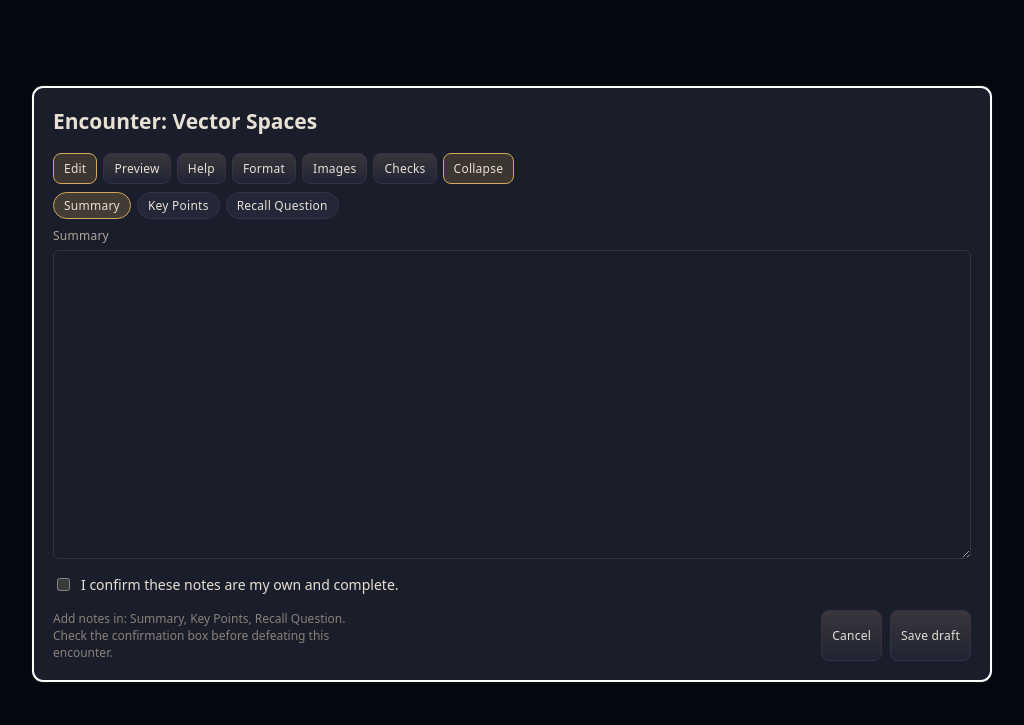
NoteEditorModal › shows a neutral checklist on first open before edits
Expected: the text "Keep headings: Summary, Key Points, Recall Question" is not shown
Click the button "Checks": (405,168) [373,152,436,184]
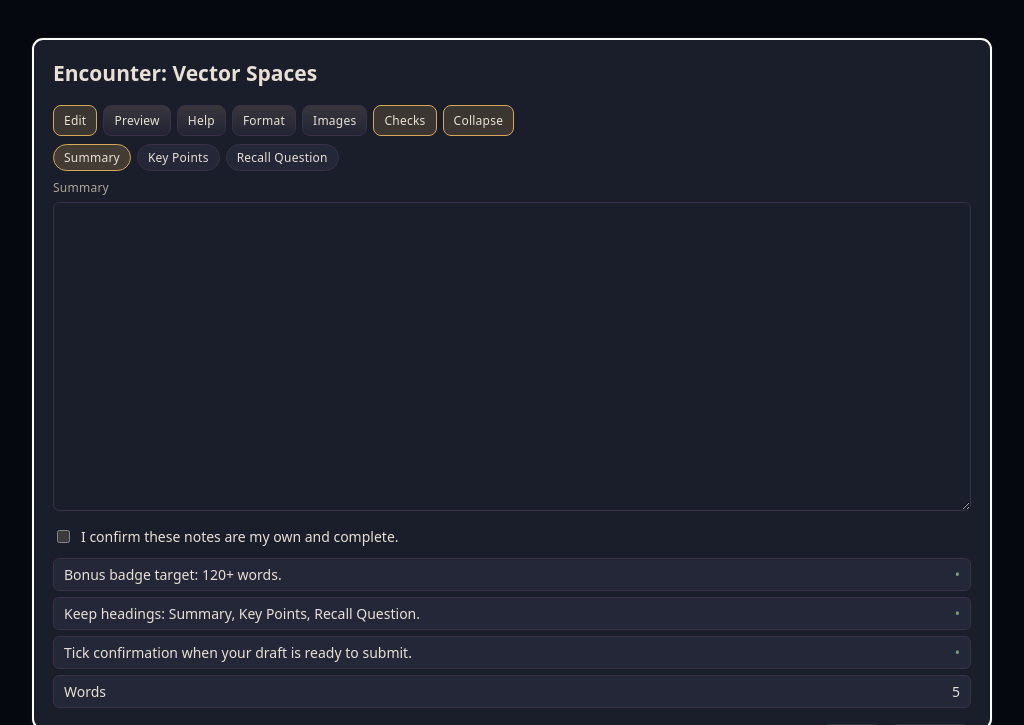
Result: the text "Keep headings: Summary, Key Points, Recall Question." is shown at [64,604,420,623]
Result: the text "Tick confirmation when your draft is ready to submit." is shown at [64,643,412,662]
